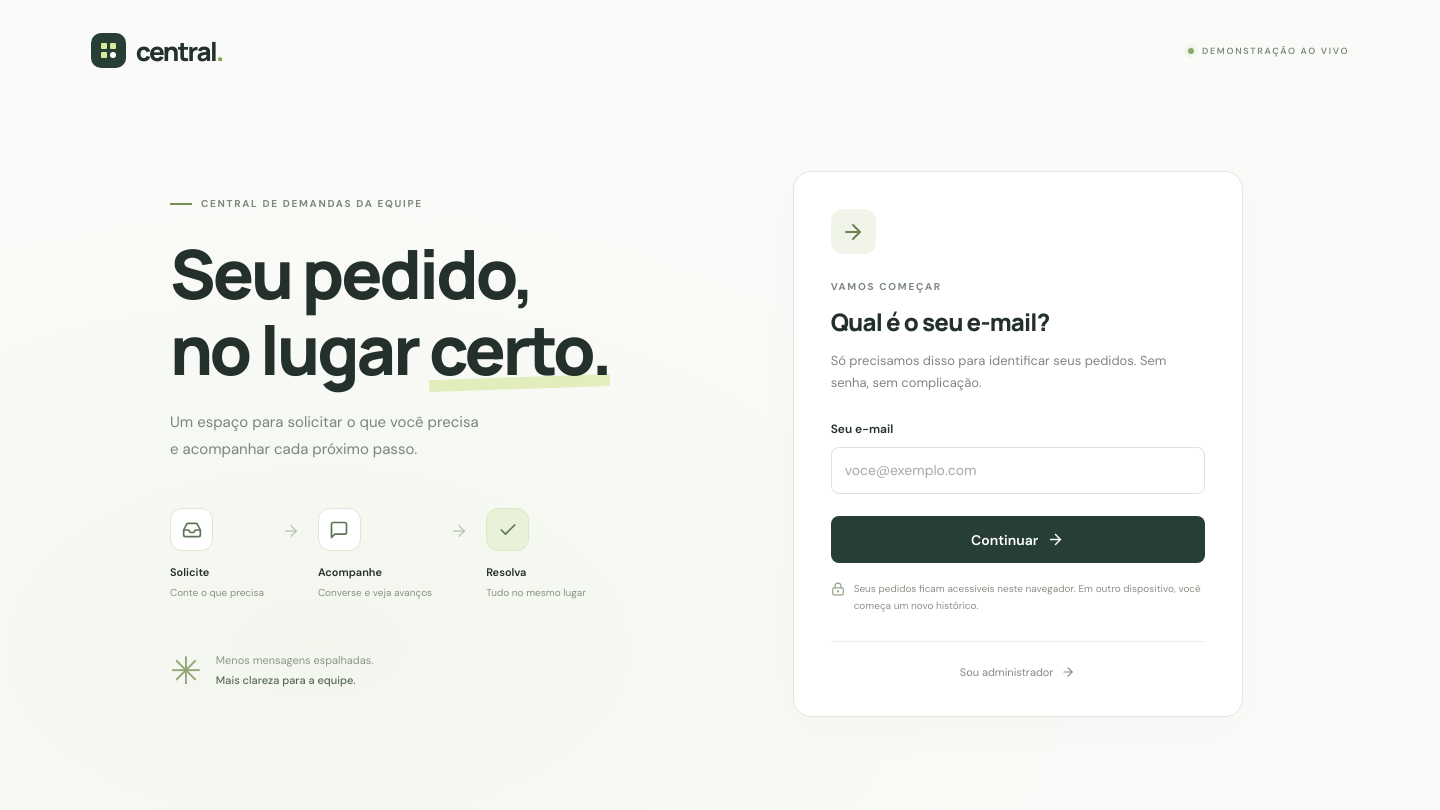
it: mantém o e-mail na falha de cadastro sem criar sessão no Auth compartilhado
Type "ana@teste.invalid" into the field labelled "Seu e-mail" at (1018, 471), box x1=831 y1=447 x2=1205 y2=494
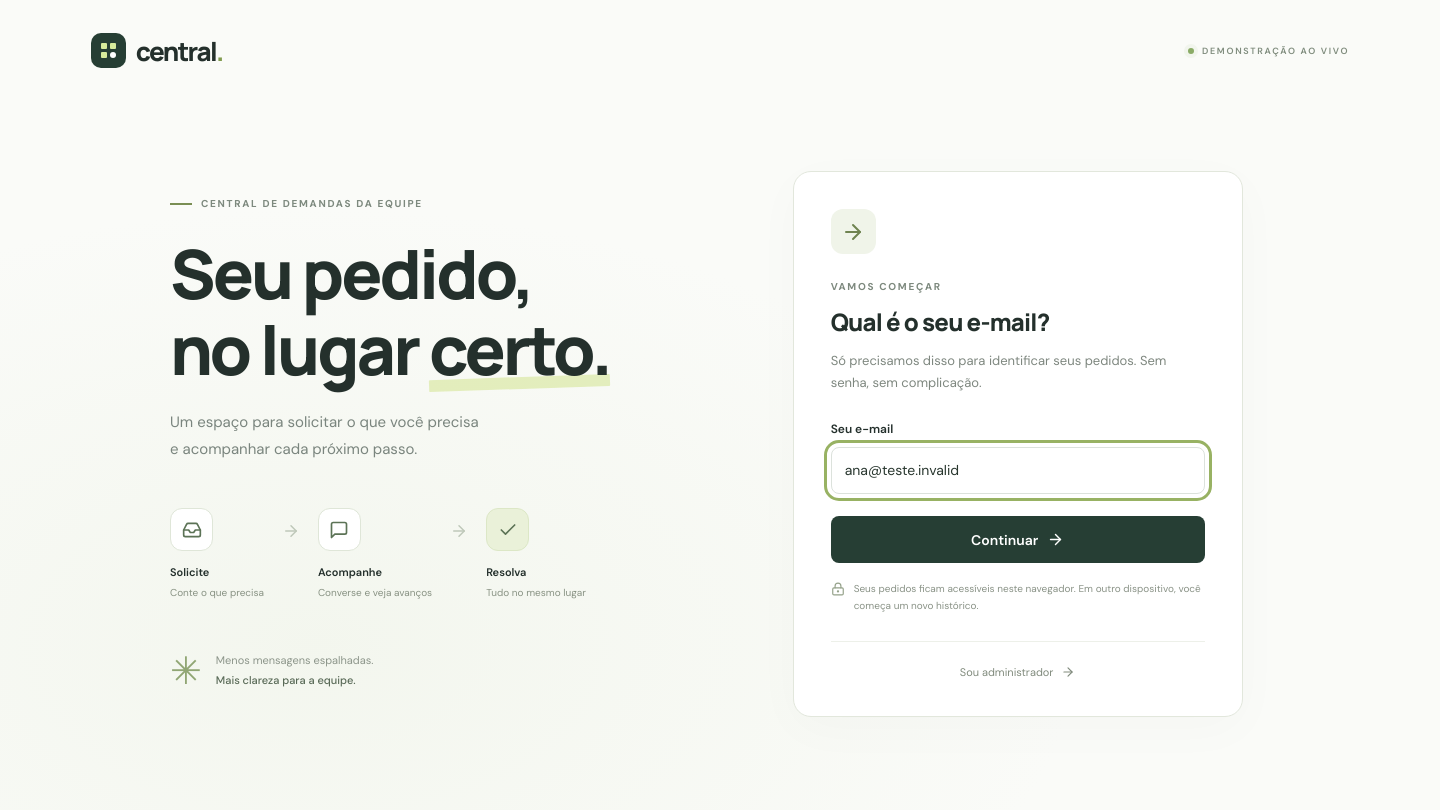
Click the button "Continuar" at (1018, 540), box x1=831 y1=516 x2=1205 y2=563
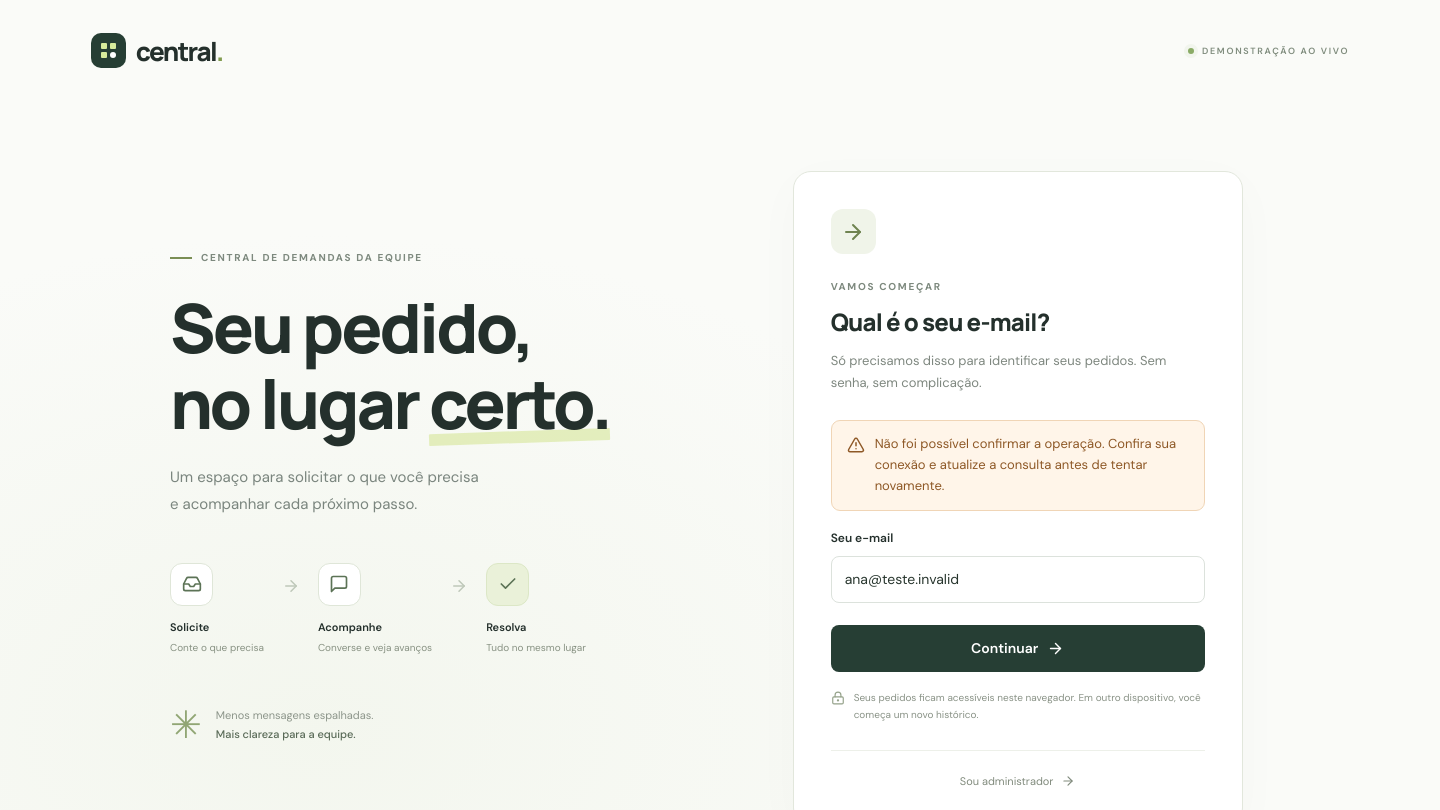
Expected: the button "Continuar" is enabled, x1=831 y1=625 x2=1205 y2=672
Now the text "Não foi possível confirmar" is shown, box x1=875 y1=435 x2=1176 y2=494
